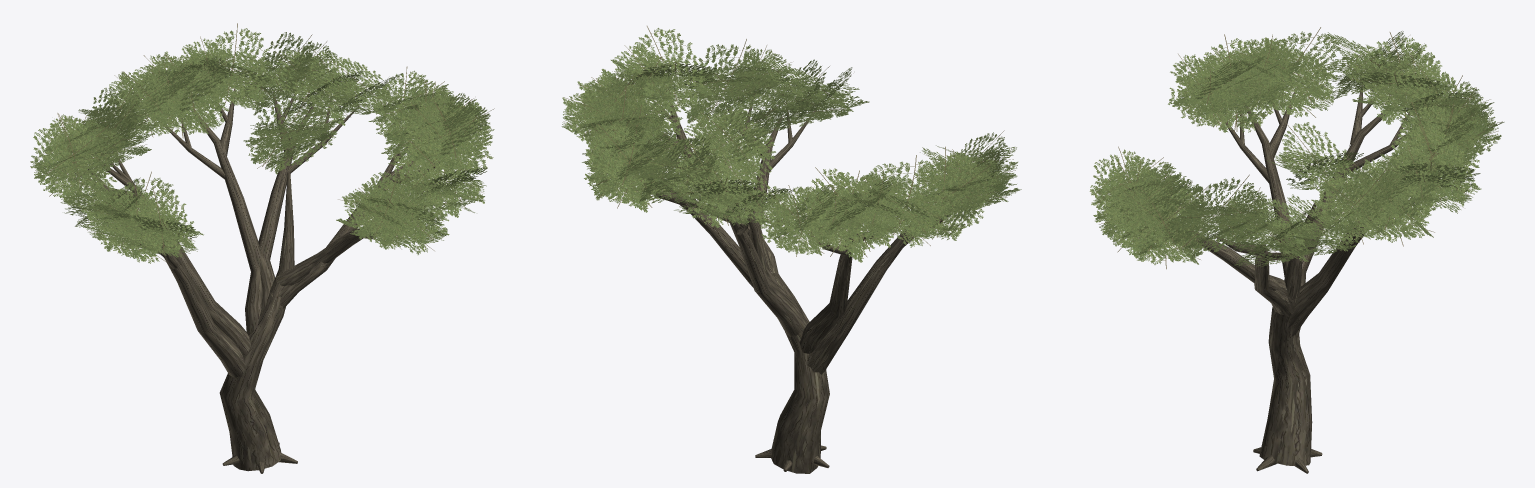
Rendered from acacia-1.glb.
The picture shows the model from 3 angles, left to right: view 1: azimuth 30°, elevation 25°; view 2: azimuth 150°, elevation 25°; view 3: azimuth 270°, elevation 25°; orthographic projection. The views are drawn at different scales.
Visible parts, largest first — view 1: 平顶金合欢 · 广伞冠 LOD0; view 2: 平顶金合欢 · 广伞冠 LOD0; view 3: 平顶金合欢 · 广伞冠 LOD0.
Boxes of the visible parts, box(x1,y1,x2,y2) form: 平顶金合欢 · 广伞冠 LOD0: box(30, 23, 494, 473); 平顶金合欢 · 广伞冠 LOD0: box(561, 26, 1021, 473); 平顶金合欢 · 广伞冠 LOD0: box(1089, 27, 1504, 473).
Bounding box in the file's own units: 9 × 7 × 7.6.
Materials: 2 (2 with a texture image).
